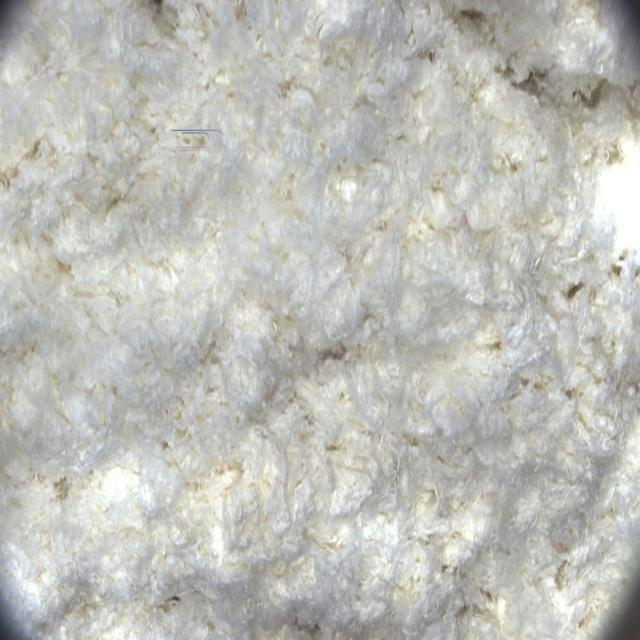dust: (151, 66, 254, 190)
